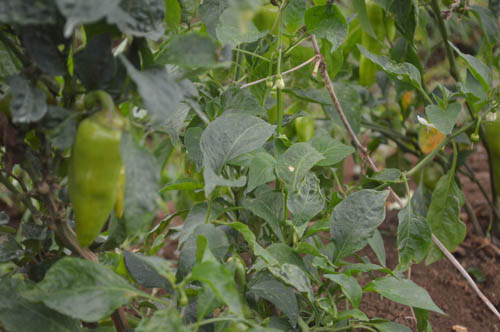ChiliPepper: (72, 123, 124, 249), (356, 8, 387, 90)
